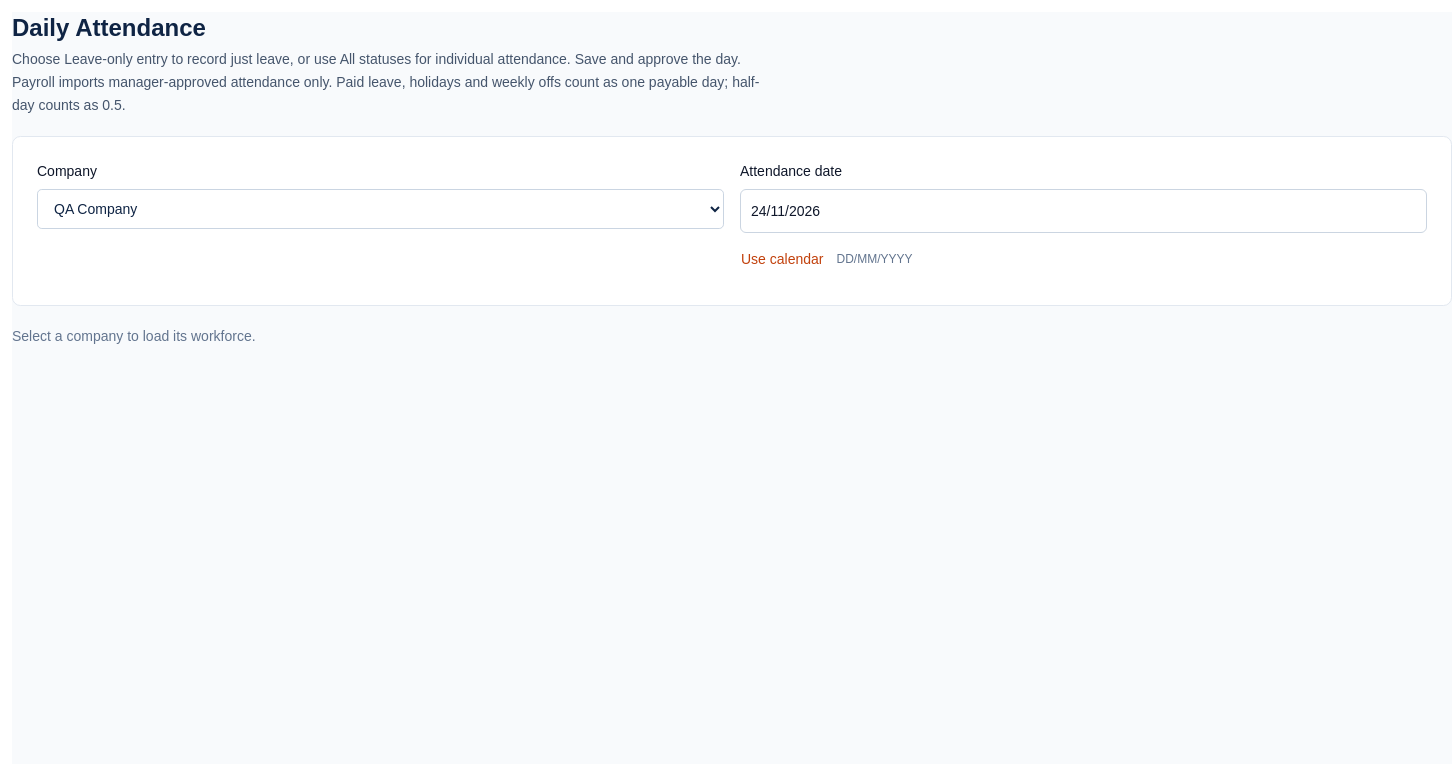
Test case: saves leave-only entry with remaining staff present and keeps holidays without auto-approving
Later steps or results of the test are not shown.
Select "QA Company" in the dropdown named "Attendance company" at (380, 209), box [37,189,724,229]
Select "QA Company" in the dropdown named "Attendance company" at (380, 209), box [37,189,724,229]
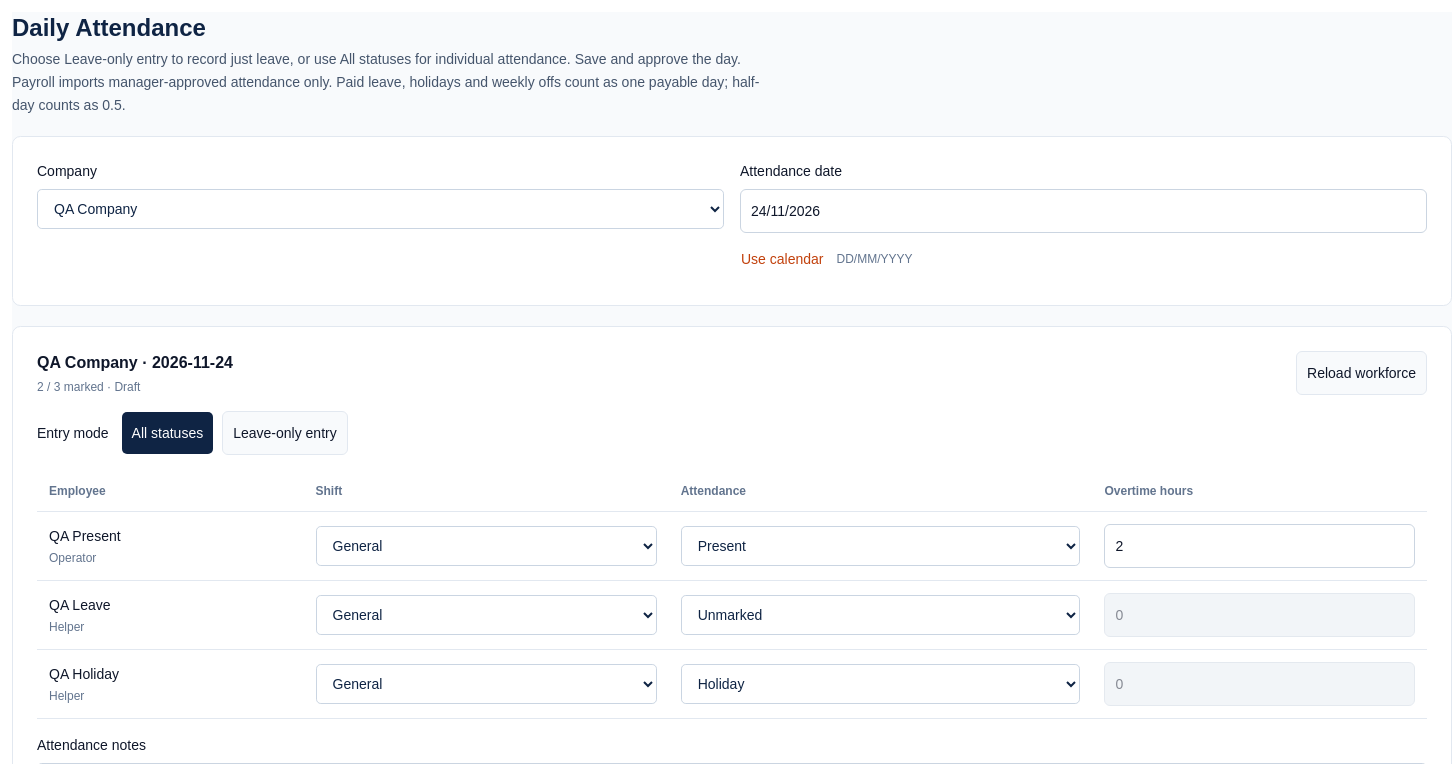
Result: the dropdown named "Attendance for QA Leave" is shown at [681,595,1080,635]
